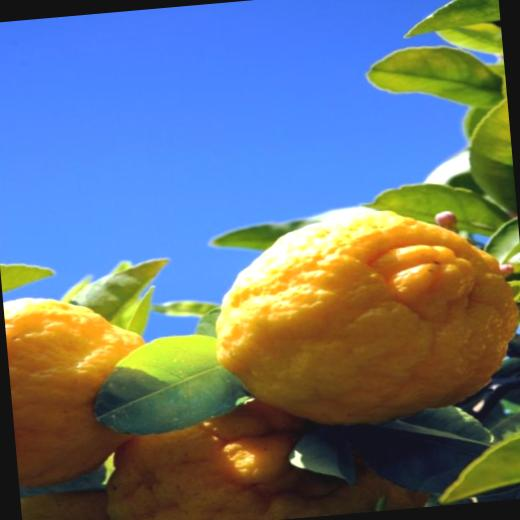Grape: (194, 190, 520, 431), (3, 289, 150, 488), (110, 392, 305, 520), (253, 464, 358, 520)
